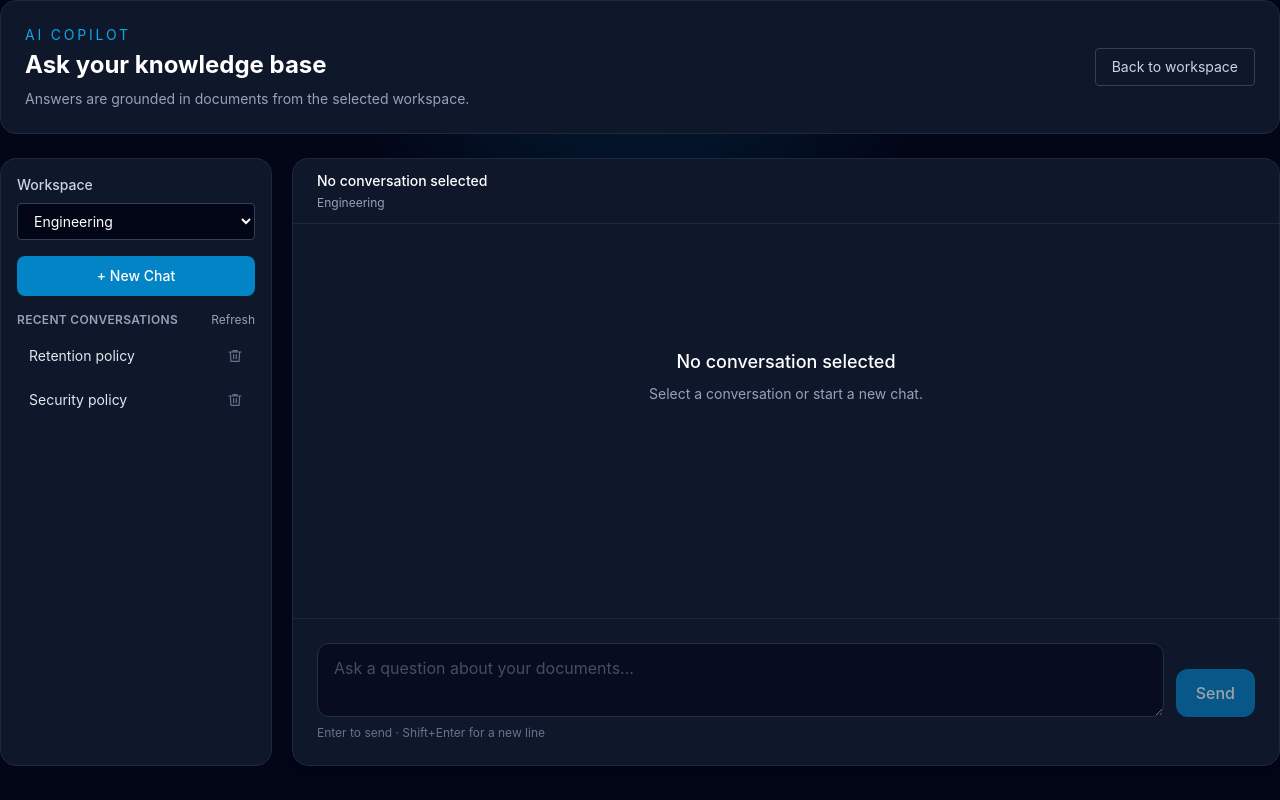
Test: ChatPage › shows a friendly error and keeps the modal open when deletion fails
Click the button named "Delete Retention policy" at point(235, 356), box x1=219 y1=344 x2=251 y2=368
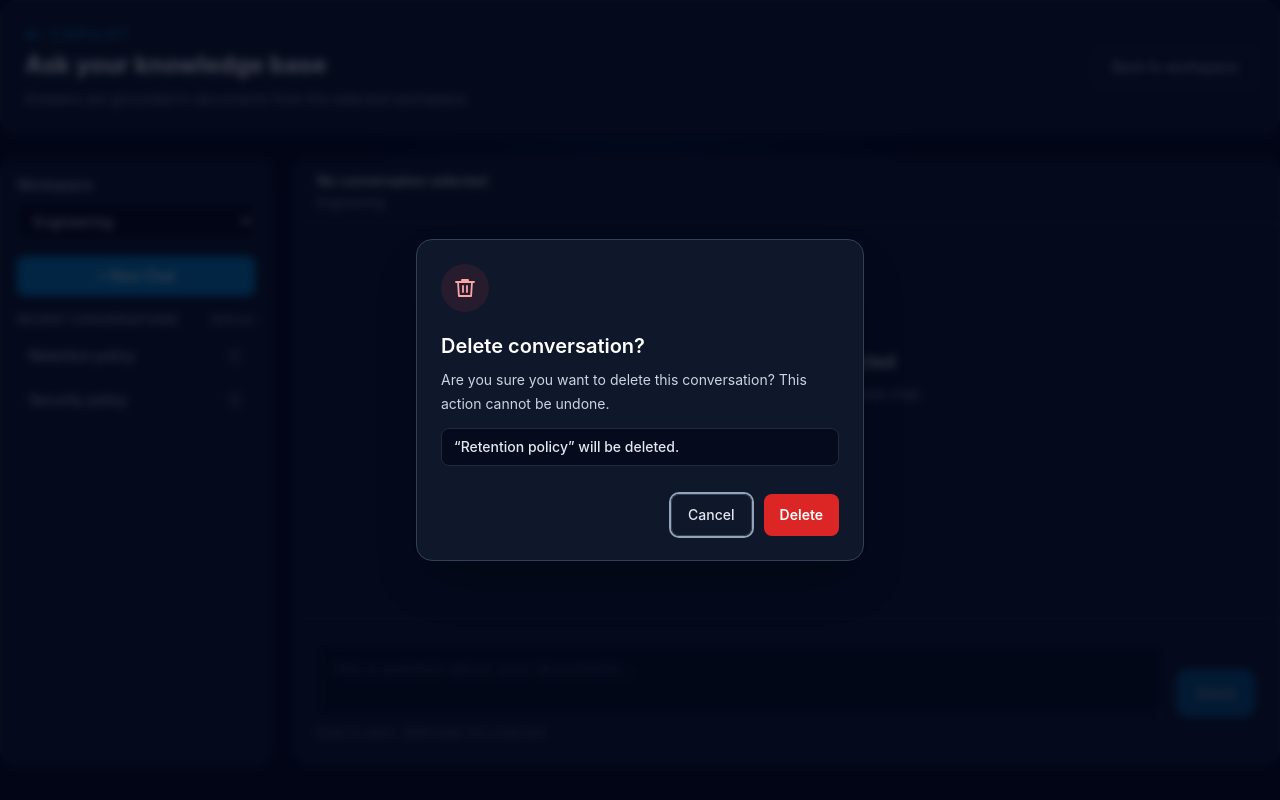
Click the button "Delete" at point(801, 515), box x1=764 y1=494 x2=839 y2=536
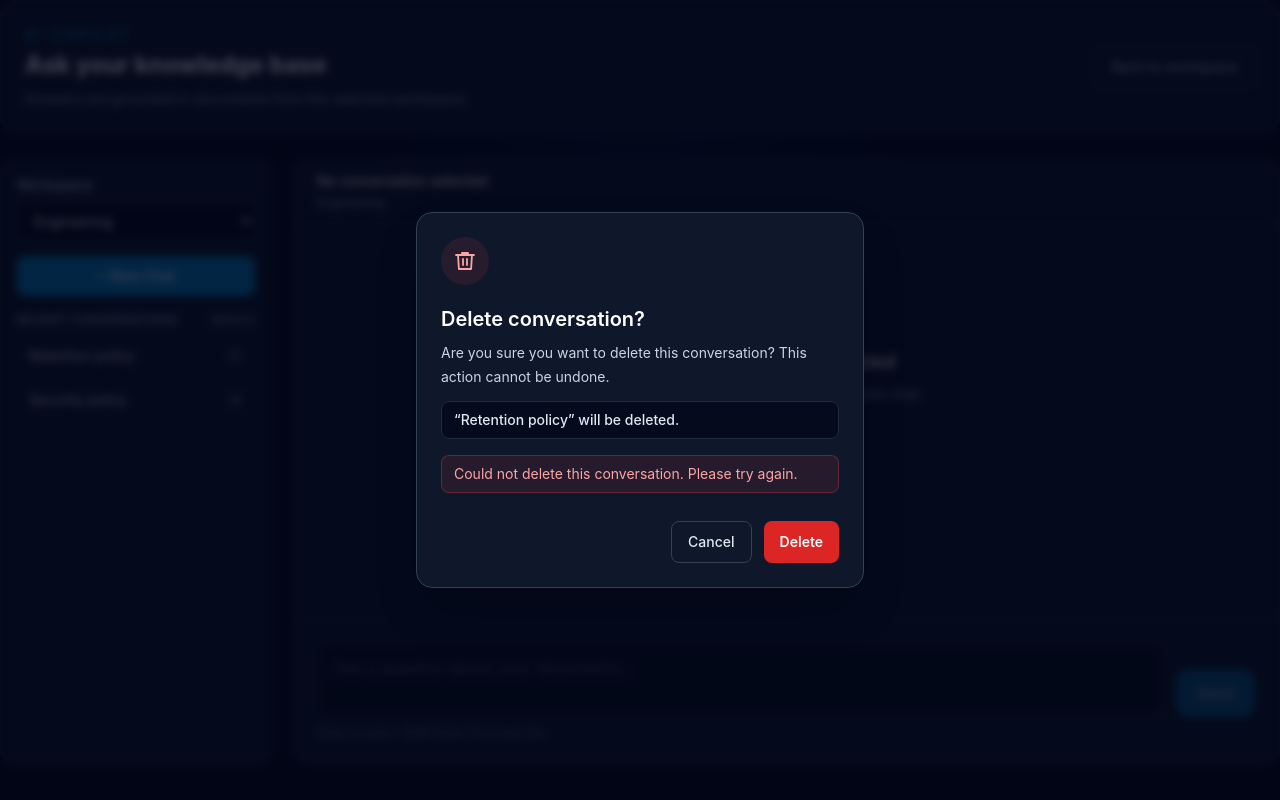
expect the message reads "Could not delete this conversation. Please try again.": met, box x1=454 y1=465 x2=798 y2=482
